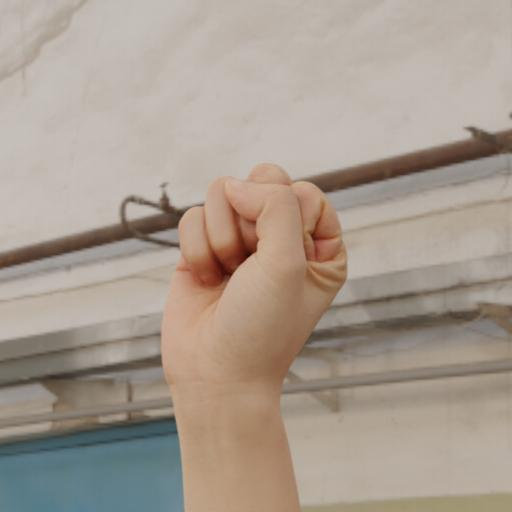S: (156, 156, 357, 389)
